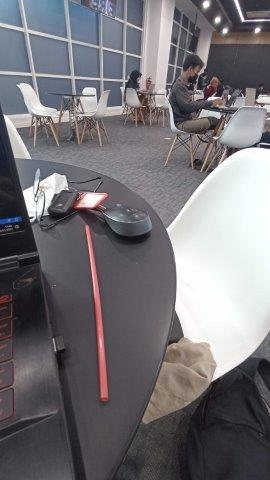sedotan: (85, 226, 108, 401)
